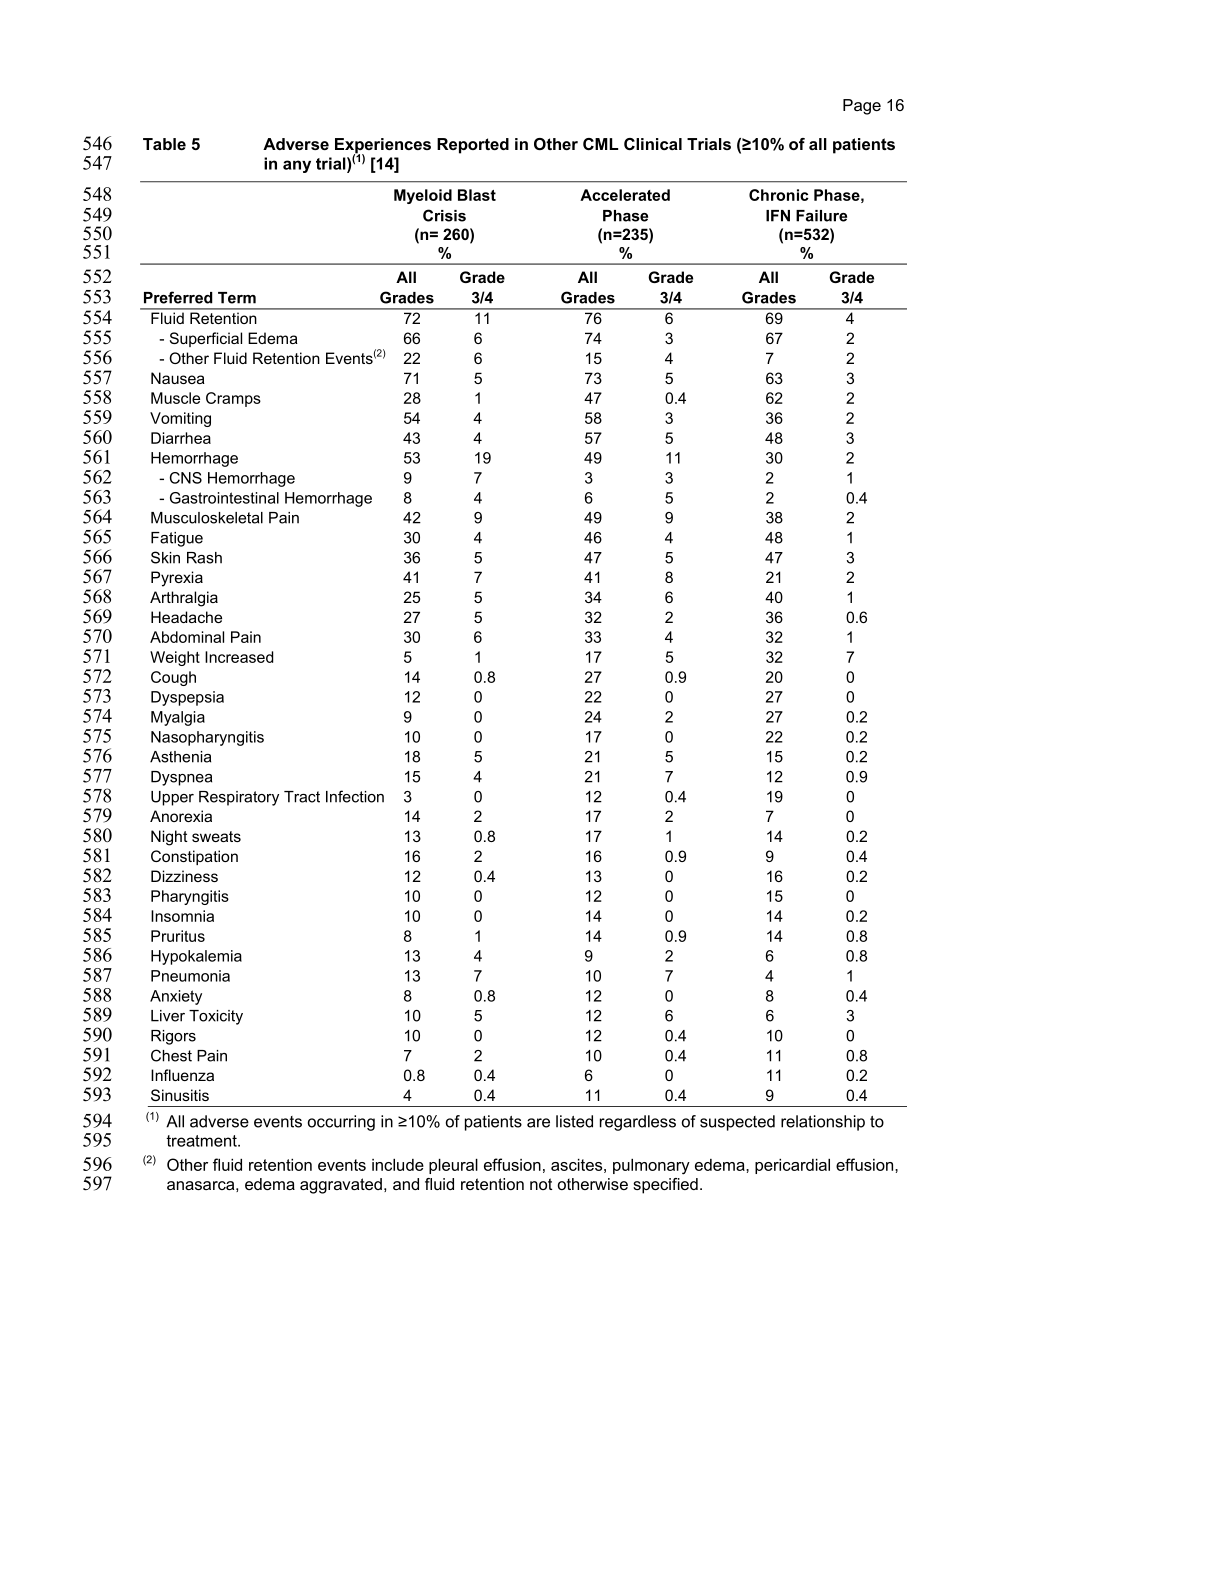partial_lined_merged_cells: (134, 177, 915, 1113)
